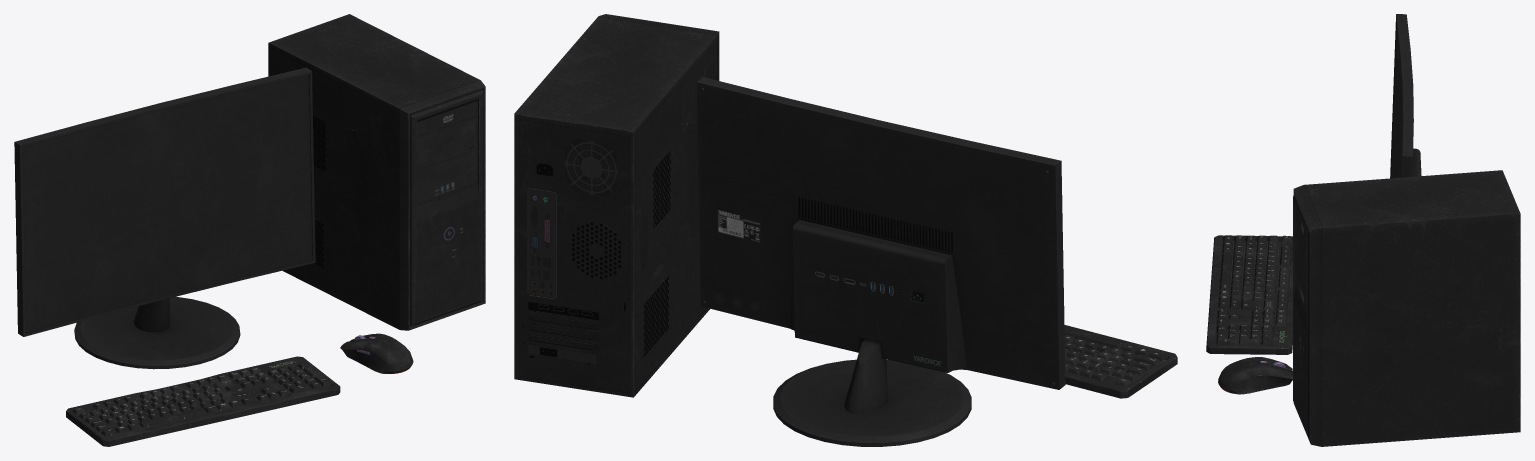
File: pc_setup_-_game_ready.glb
3 views of the same model, side by side, from view 1: azimuth 30°, elevation 25°; view 2: azimuth 150°, elevation 25°; view 3: azimuth 270°, elevation 25° (orthographic). The views are drawn at different scales.
Visible parts, largest first — view 1: SM_PC_Box_01; view 2: SM_PC_Box_01; view 3: SM_PC_Box_01.
Part boxes in pixels (x1=…): SM_PC_Box_01: x1=14, y1=14, x2=485, y2=446; SM_PC_Box_01: x1=514, y1=14, x2=1177, y2=446; SM_PC_Box_01: x1=1206, y1=14, x2=1520, y2=446.
Size of what is drawn, in the model's own units: 0.9557 by 0.4959 by 0.612.
1 material, 1 textured.
